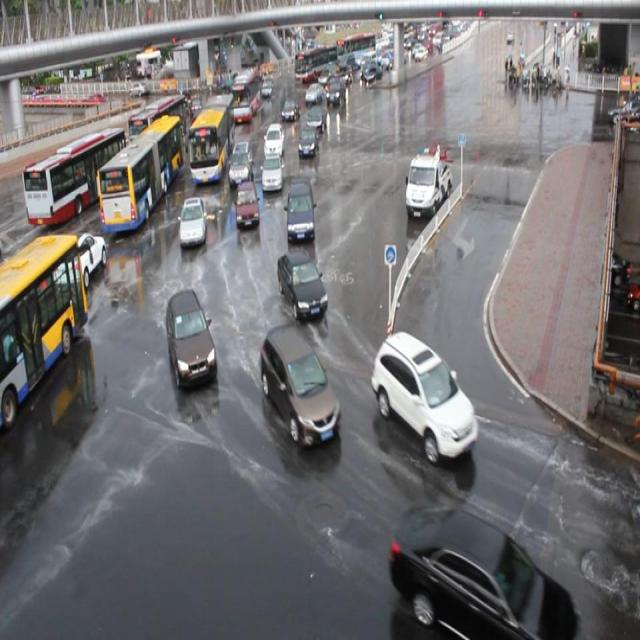bus: (404, 150, 449, 214)
car: (392, 495, 577, 640), (370, 327, 478, 462), (260, 321, 340, 443), (167, 286, 218, 388), (278, 243, 328, 322), (52, 228, 109, 290), (286, 175, 315, 243), (178, 196, 206, 246), (236, 181, 258, 227), (228, 142, 254, 179), (264, 122, 286, 161), (262, 156, 284, 191), (296, 126, 318, 158), (326, 79, 347, 107), (304, 78, 322, 109), (308, 105, 326, 131), (184, 90, 200, 114), (181, 83, 201, 102), (280, 95, 296, 118)
van: (0, 232, 86, 422), (24, 126, 127, 231), (97, 119, 185, 229), (185, 90, 238, 189), (129, 95, 185, 155), (229, 64, 260, 122)
